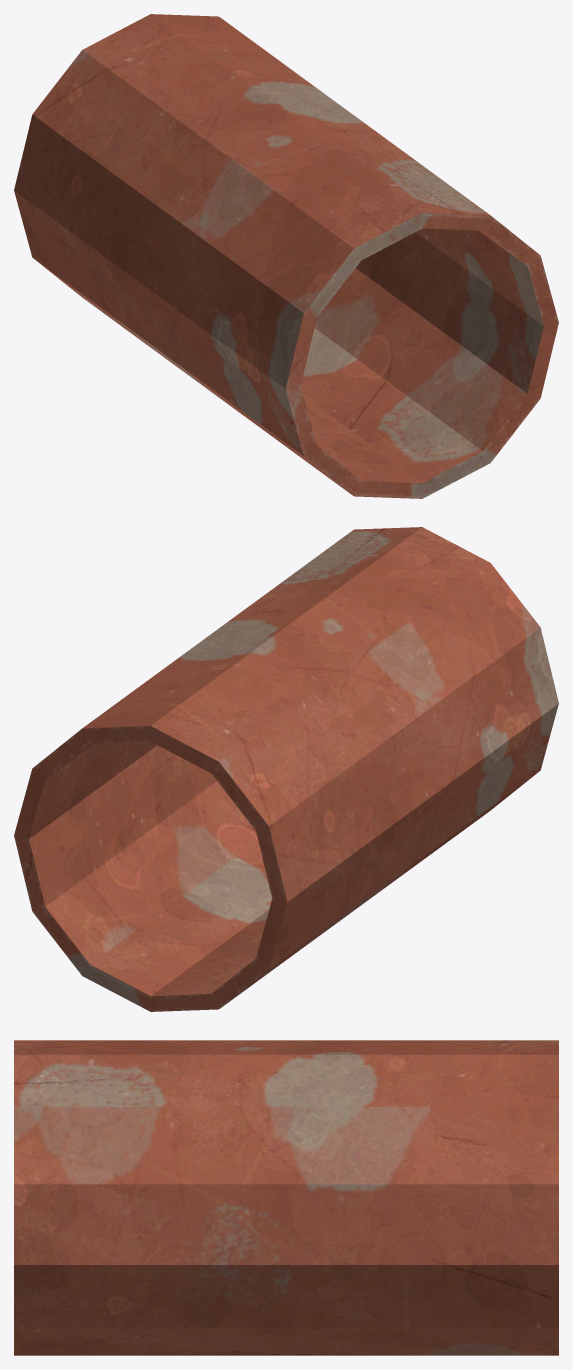
Rendered from CopperPipe.glb.
3 renders of one model, top to bottom at view 1: azimuth 30°, elevation 25°; view 2: azimuth 150°, elevation 25°; view 3: azimuth 270°, elevation 25°, orthographic.
Parts seen in each view (by area): view 1: CopperPipe; view 2: CopperPipe; view 3: CopperPipe.
Part boxes in pixels (box(x1,y1,x2,y2)): CopperPipe: box(14, 14, 558, 498); CopperPipe: box(14, 527, 558, 1011); CopperPipe: box(14, 1040, 558, 1355).
Size of the model in its own units: 0.3711 by 0.3711 by 0.6387.
Materials: 1 (1 with a texture image).
